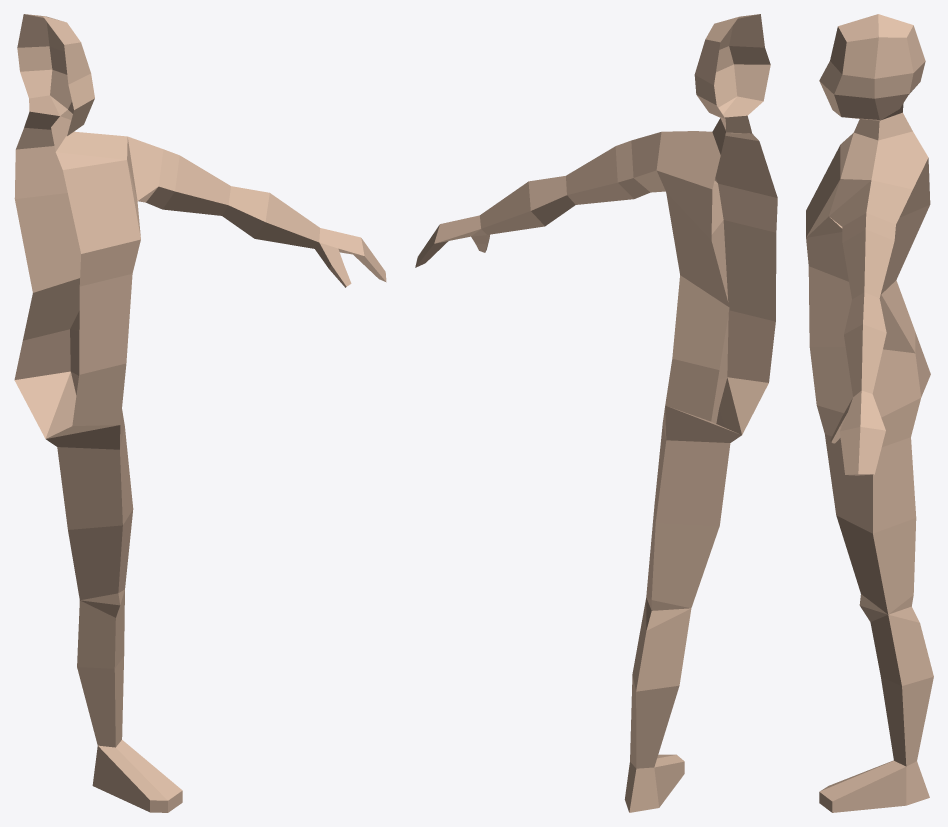
The model's file is LowPoly_Male_Base2.glb.
3 renders of one model, left to right at view 1: azimuth 30°, elevation 25°; view 2: azimuth 150°, elevation 25°; view 3: azimuth 270°, elevation 25°, orthographic. The views are drawn at different scales.
Visible parts, largest first — view 1: Cube; view 2: Cube; view 3: Cube.
Part boxes in pixels (x1,y1,x2,y2): Cube: (14, 14, 386, 812); Cube: (415, 14, 777, 812); Cube: (806, 14, 933, 812).
Bounding box in the file's own units: 0.7447 × 1.71 × 0.2651.
